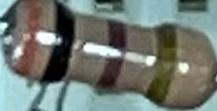Black: (43, 2, 78, 83)
Brown: (97, 21, 126, 94)
Red: (17, 3, 42, 76)
Side-Gold: (148, 28, 176, 105)
